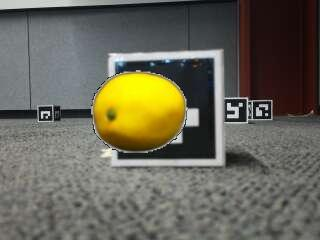lemon: (93, 73, 183, 151)
